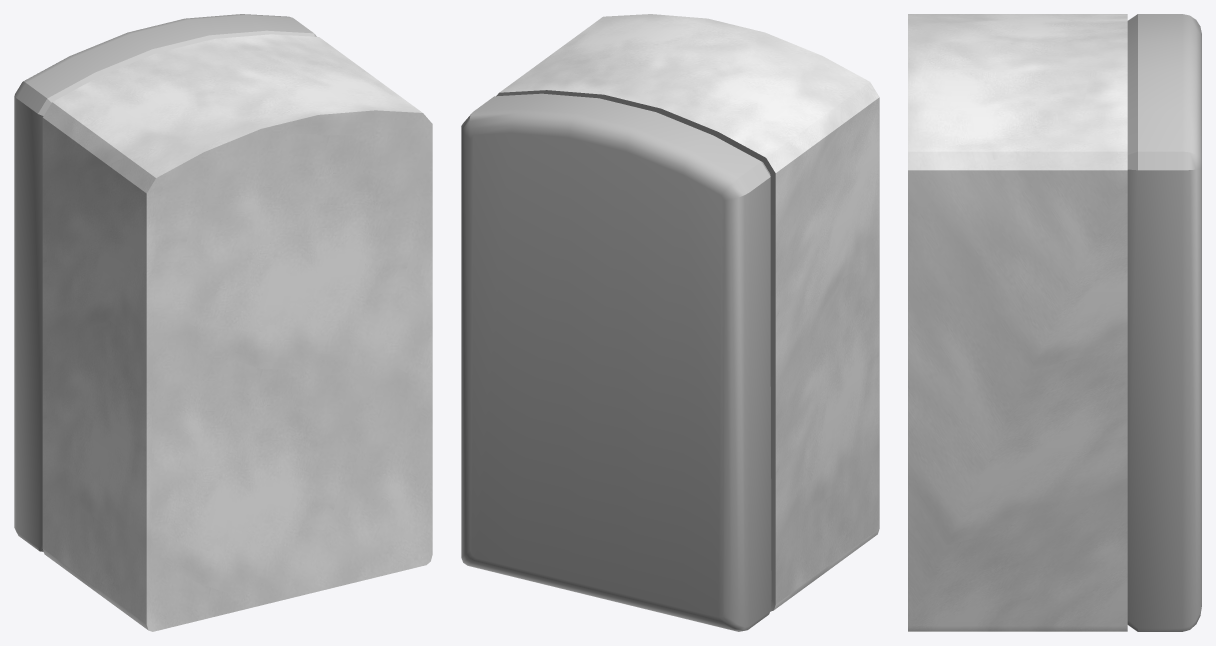
The model's file is speaker.fbx.
3 views of the same model, side by side, from view 1: azimuth 30°, elevation 25°; view 2: azimuth 150°, elevation 25°; view 3: azimuth 270°, elevation 25° (orthographic). The views are drawn at different scales.
Visible parts, largest first — view 1: speaker; view 2: speaker; view 3: speaker.
Boxes of the visible parts, left/top/right/bottom form: speaker: left=14, top=14, right=432, bottom=631; speaker: left=461, top=14, right=879, bottom=631; speaker: left=908, top=14, right=1201, bottom=631.
Size of the model in its own units: 0.253 by 0.403 by 0.2133.
